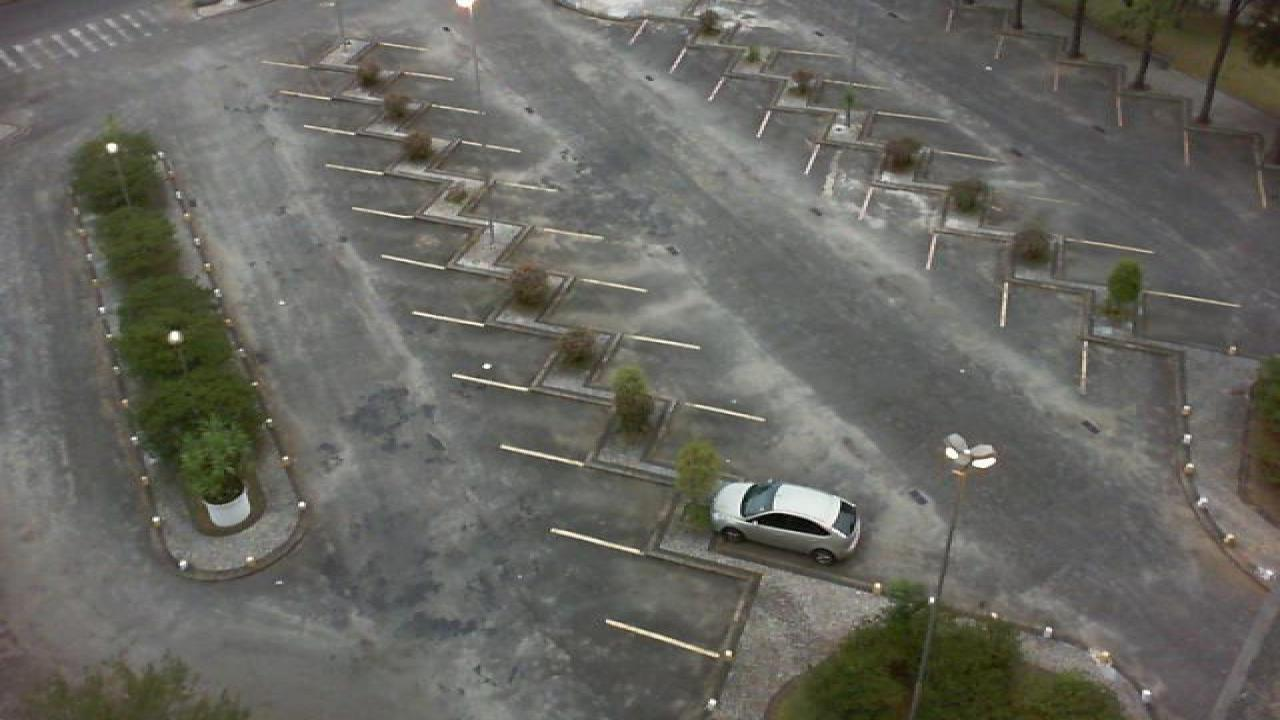Car: (708, 478, 862, 566)
